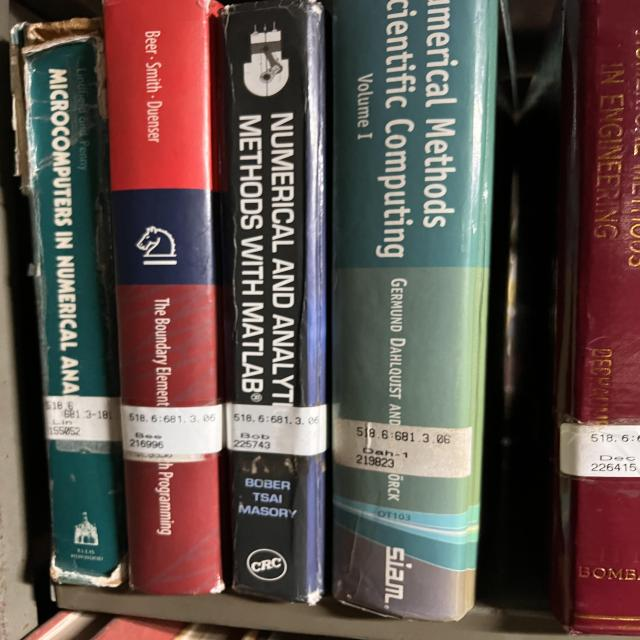Book: (332, 0, 497, 620), (105, 0, 223, 594), (13, 19, 127, 586), (225, 0, 328, 602), (552, 0, 640, 635)
Label: (333, 419, 473, 478), (122, 405, 223, 461), (227, 404, 327, 456), (560, 422, 640, 478), (45, 395, 120, 441)
